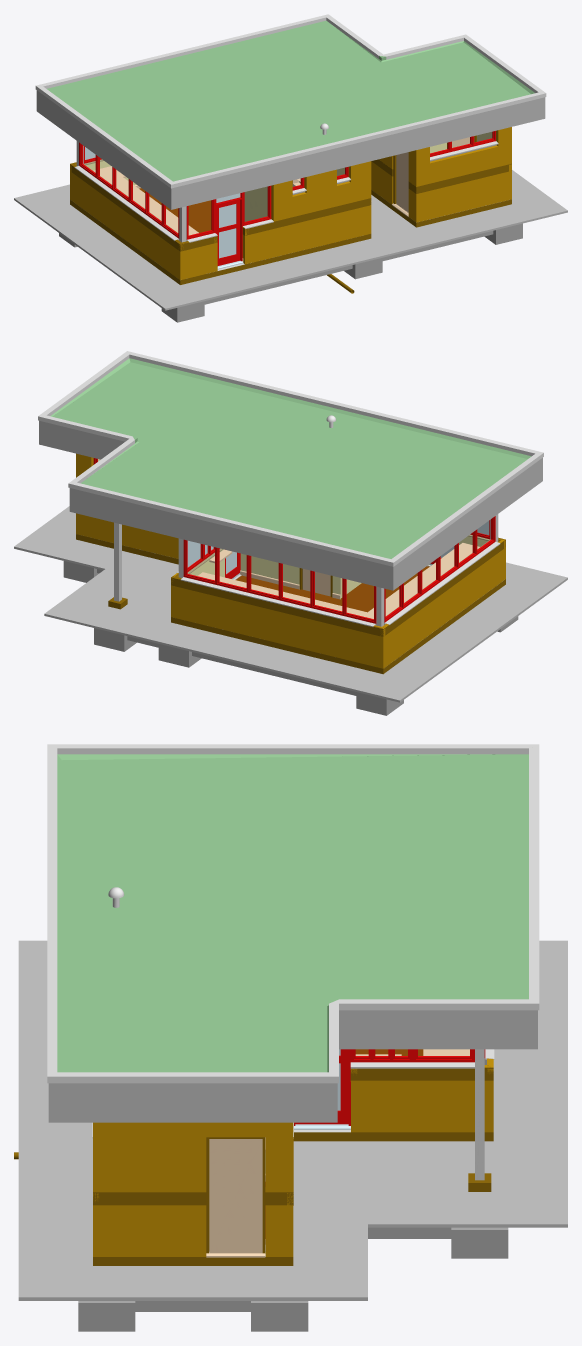
3 views of the same model, one above another, from view 1: azimuth 30°, elevation 25°; view 2: azimuth 150°, elevation 25°; view 3: azimuth 270°, elevation 25° (orthographic). The views are drawn at different scales.
Visible parts, largest first — view 1: PolyFace Mesh (×28), AutoCAD Color Index 10 (×2), AutoCAD Color Index 9, AutoCAD Color Index 31, AutoCAD Color Index 254; view 2: PolyFace Mesh (×29), AutoCAD Color Index 10 (×2), AutoCAD Color Index 254 (×2), AutoCAD Color Index 31; view 3: PolyFace Mesh (×24), AutoCAD Color Index 31, AutoCAD Color Index 36, AutoCAD Color Index 10.
Part boxes in pixels (<box>): PolyFace Mesh (×28): <box>14,14,567,322</box>; AutoCAD Color Index 10 (×2): <box>79,142,242,265</box>; AutoCAD Color Index 9: <box>216,193,243,269</box>; AutoCAD Color Index 31: <box>392,152,408,216</box>; AutoCAD Color Index 254: <box>74,166,178,240</box>; PolyFace Mesh (×29): <box>14,351,567,715</box>; AutoCAD Color Index 10 (×2): <box>183,516,495,623</box>; AutoCAD Color Index 254 (×2): <box>180,541,500,626</box>; AutoCAD Color Index 31: <box>302,569,330,596</box>; PolyFace Mesh (×24): <box>18,744,567,1331</box>; AutoCAD Color Index 31: <box>206,1139,265,1257</box>; AutoCAD Color Index 36: <box>206,1137,265,1253</box>; AutoCAD Color Index 10: <box>294,1049,350,1125</box>.
Size of the model in its own units: 13.29 by 4.82 by 8.72.
